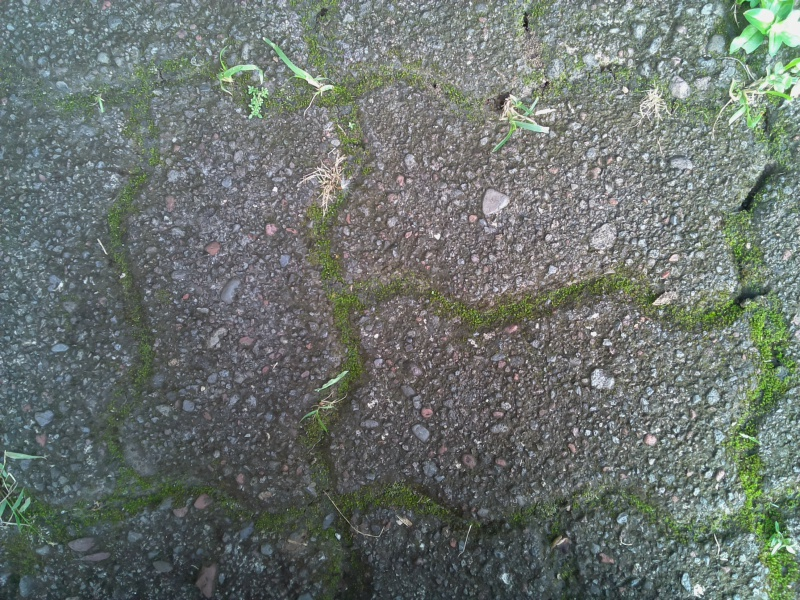Weed: (264, 35, 346, 101), (1, 439, 48, 539), (719, 68, 790, 132), (491, 89, 560, 152), (301, 146, 353, 205), (299, 375, 354, 430), (627, 79, 676, 130), (758, 515, 797, 566), (203, 51, 248, 91), (239, 81, 276, 128), (87, 84, 115, 118)
